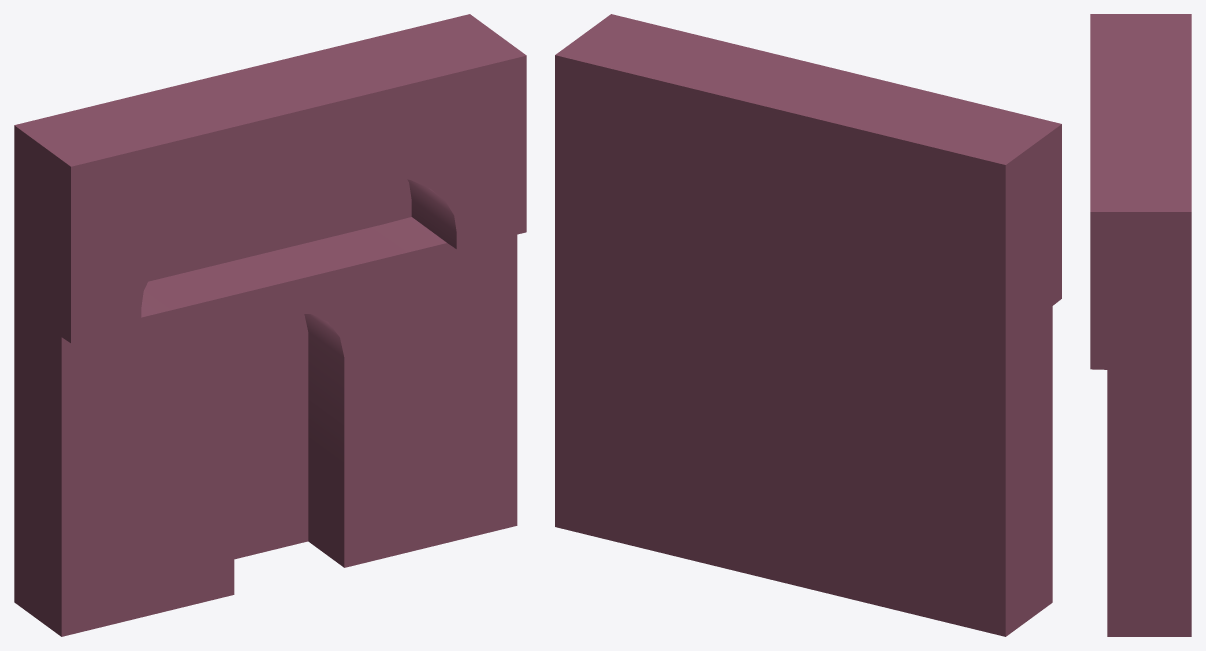
Rendered from 墙壁正面.fbx.
The picture shows the model from 3 angles, left to right: view 1: azimuth 30°, elevation 25°; view 2: azimuth 150°, elevation 25°; view 3: azimuth 270°, elevation 25°; orthographic projection. The views are drawn at different scales.
Visible parts, largest first — view 1: Backwall.up; view 2: Backwall.up; view 3: Backwall.up.
Part boxes in pixels (x1,y1,x2,y2): Backwall.up: [14, 14, 526, 636]; Backwall.up: [555, 14, 1061, 636]; Backwall.up: [1090, 14, 1191, 636].
Size of the model in its own units: 1021 by 1021 by 220.
